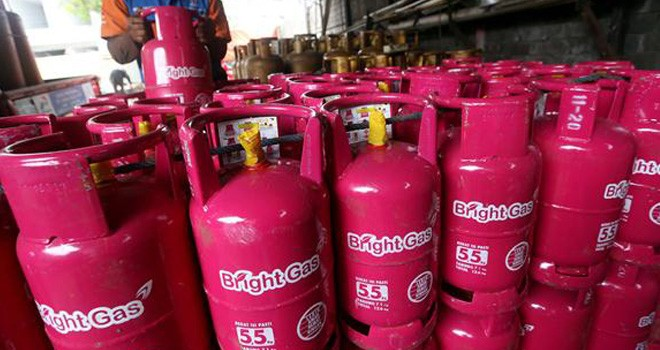bright_gas: (1, 123, 209, 350), (186, 107, 340, 350), (335, 95, 436, 350), (534, 83, 636, 287), (430, 93, 534, 292), (135, 7, 205, 107), (435, 288, 527, 350), (597, 268, 660, 350), (529, 285, 597, 350), (293, 70, 381, 103), (403, 68, 483, 100), (78, 92, 158, 122), (491, 60, 570, 90), (218, 78, 292, 110)
